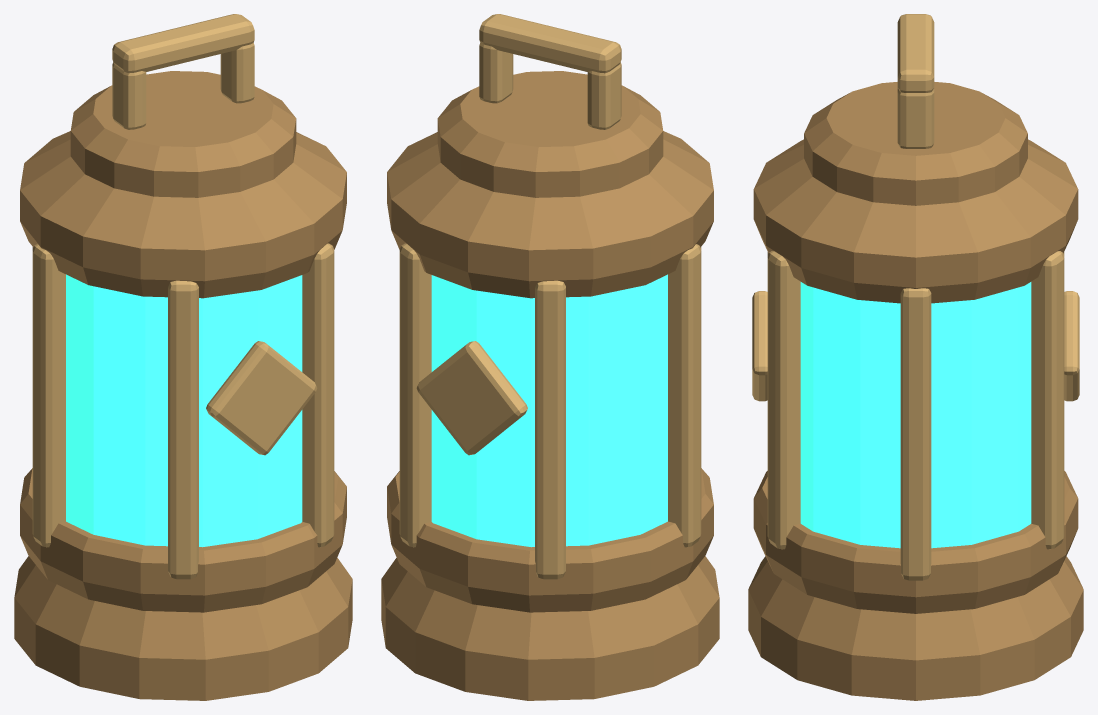
The model's file is recovery_vessel.glb.
3 views of the same model, side by side, from view 1: azimuth 30°, elevation 25°; view 2: azimuth 150°, elevation 25°; view 3: azimuth 270°, elevation 25° (orthographic).
Visible parts, largest first — view 1: GEO-vessel-core, GEO-vessel-top-band, GEO-vessel-foot, GEO-vessel-lid, GEO-vessel-base-band, GEO-vessel-rib-3, GEO-vessel-rib-4, GEO-vessel-rib-5, GEO-vessel-return-mark-back, GEO-vessel-handle, GEO-vessel-handle-post--0.11, GEO-vessel-handle-post-0.11; view 2: GEO-vessel-core, GEO-vessel-top-band, GEO-vessel-foot, GEO-vessel-lid, GEO-vessel-base-band, GEO-vessel-rib-3, GEO-vessel-rib-2, GEO-vessel-rib-1, GEO-vessel-return-mark, GEO-vessel-handle, GEO-vessel-handle-post--0.11, GEO-vessel-handle-post-0.11; view 3: GEO-vessel-core, GEO-vessel-top-band, GEO-vessel-foot, GEO-vessel-lid, GEO-vessel-base-band, GEO-vessel-rib-1, GEO-vessel-rib-5, GEO-vessel-rib-0, GEO-vessel-handle, GEO-vessel-handle-post-0.11, GEO-vessel-return-mark, GEO-vessel-return-mark-back.
Boxes of the visible parts, x1=… form: GEO-vessel-core: x1=66, y1=274, x2=302, y2=547; GEO-vessel-top-band: x1=20, y1=131, x2=346, y2=298; GEO-vessel-foot: x1=14, y1=556, x2=352, y2=700; GEO-vessel-lid: x1=70, y1=71, x2=296, y2=197; GEO-vessel-base-band: x1=20, y1=468, x2=346, y2=612; GEO-vessel-rib-3: x1=32, y1=244, x2=65, y2=547; GEO-vessel-rib-4: x1=168, y1=280, x2=198, y2=579; GEO-vessel-rib-5: x1=302, y1=243, x2=334, y2=547; GEO-vessel-return-mark-back: x1=206, y1=341, x2=317, y2=455; GEO-vessel-handle: x1=112, y1=14, x2=254, y2=73; GEO-vessel-handle-post--0.11: x1=112, y1=62, x2=146, y2=129; GEO-vessel-handle-post-0.11: x1=220, y1=43, x2=254, y2=103; GEO-vessel-core: x1=431, y1=274, x2=667, y2=547; GEO-vessel-top-band: x1=387, y1=131, x2=713, y2=298; GEO-vessel-foot: x1=381, y1=556, x2=719, y2=700; GEO-vessel-lid: x1=437, y1=71, x2=663, y2=197; GEO-vessel-base-band: x1=387, y1=468, x2=713, y2=612; GEO-vessel-rib-3: x1=668, y1=244, x2=701, y2=547; GEO-vessel-rib-2: x1=535, y1=280, x2=565, y2=579; GEO-vessel-rib-1: x1=399, y1=243, x2=431, y2=547; GEO-vessel-return-mark: x1=416, y1=341, x2=527, y2=455; GEO-vessel-handle: x1=479, y1=14, x2=621, y2=73; GEO-vessel-handle-post--0.11: x1=587, y1=62, x2=621, y2=129; GEO-vessel-handle-post-0.11: x1=479, y1=43, x2=513, y2=103; GEO-vessel-core: x1=800, y1=282, x2=1031, y2=548; GEO-vessel-top-band: x1=753, y1=139, x2=1078, y2=303; GEO-vessel-foot: x1=748, y1=556, x2=1083, y2=700; GEO-vessel-lid: x1=804, y1=82, x2=1027, y2=205; GEO-vessel-base-band: x1=753, y1=471, x2=1078, y2=613; GEO-vessel-rib-1: x1=1031, y1=251, x2=1064, y2=549; GEO-vessel-rib-5: x1=767, y1=251, x2=800, y2=549; GEO-vessel-rib-0: x1=900, y1=288, x2=931, y2=580; GEO-vessel-handle: x1=897, y1=14, x2=934, y2=92; GEO-vessel-handle-post-0.11: x1=897, y1=88, x2=934, y2=148; GEO-vessel-return-mark: x1=1064, y1=291, x2=1079, y2=401; GEO-vessel-return-mark-back: x1=752, y1=291, x2=767, y2=401.
Size of the model in its own units: 0.6 by 1.16 by 0.6.
